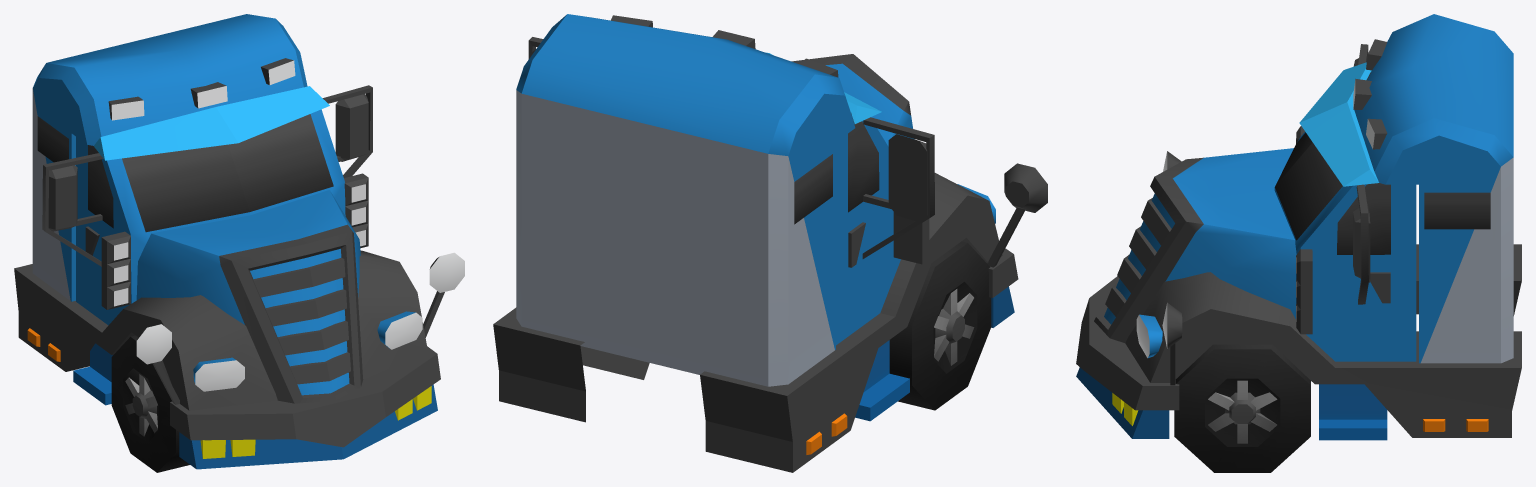
File: head_J_1.fbx
The picture shows the model from 3 angles, left to right: view 1: azimuth 30°, elevation 25°; view 2: azimuth 150°, elevation 25°; view 3: azimuth 270°, elevation 25°; orthographic projection. The views are drawn at different scales.
Visible parts, largest first — view 1: head_J_1; view 2: head_J_1; view 3: head_J_1.
Boxes of the visible parts, x1=… form: head_J_1: x1=14, y1=14, x2=464, y2=472; head_J_1: x1=493, y1=14, x2=1047, y2=472; head_J_1: x1=1076, y1=14, x2=1521, y2=472.
Bounding box in the file's own units: 1683 × 1590 × 1867.
